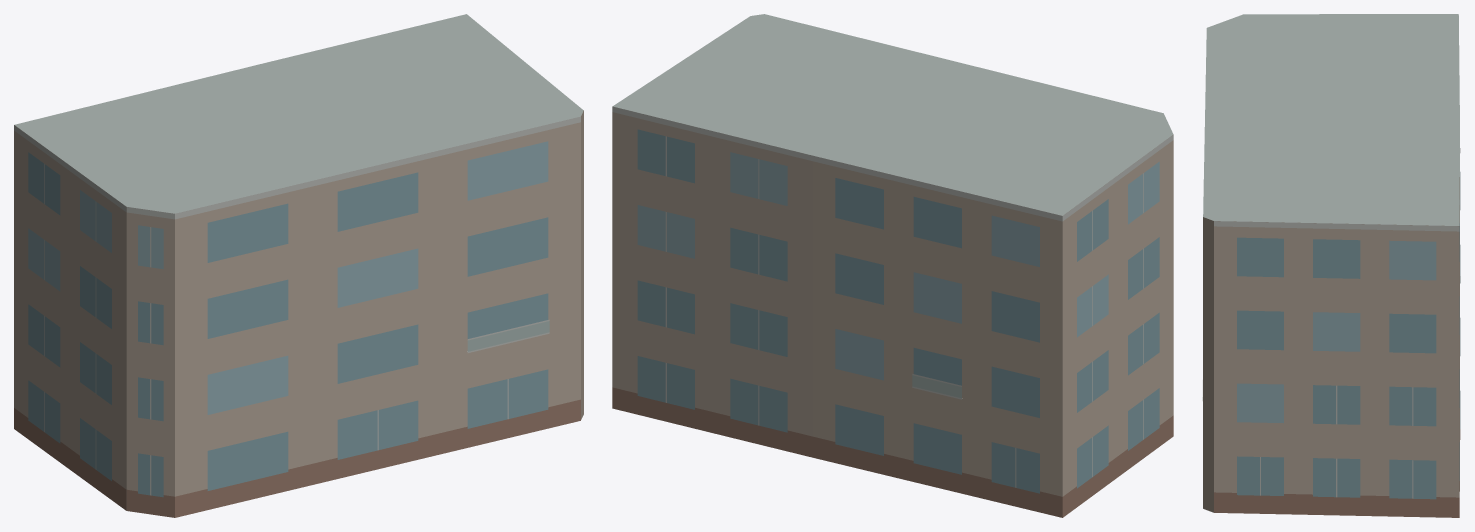
The model's file is survey-upis-32730052.glb.
3 renders of one model, left to right at view 1: azimuth 30°, elevation 25°; view 2: azimuth 150°, elevation 25°; view 3: azimuth 270°, elevation 25°, orthographic. The views are drawn at different scales.
Visible parts, largest first — view 1: survey-upis-32730052.tmp; view 2: survey-upis-32730052.tmp; view 3: survey-upis-32730052.tmp.
Part boxes in pixels (x1,y1,x2,y2): survey-upis-32730052.tmp: (14, 14, 583, 517); survey-upis-32730052.tmp: (612, 14, 1173, 517); survey-upis-32730052.tmp: (1202, 14, 1460, 517).
Bounding box in the file's own units: 20.43 × 13.1 × 10.5.
